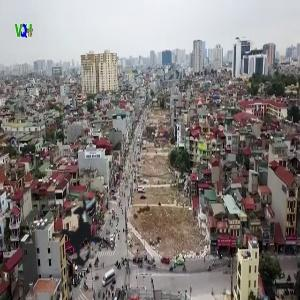drone: (26, 173, 147, 294)
